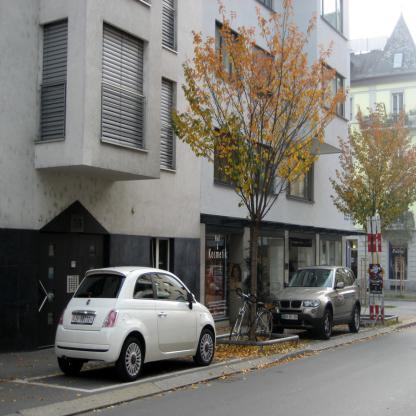Car: (52, 268, 215, 382), (268, 263, 363, 341)
